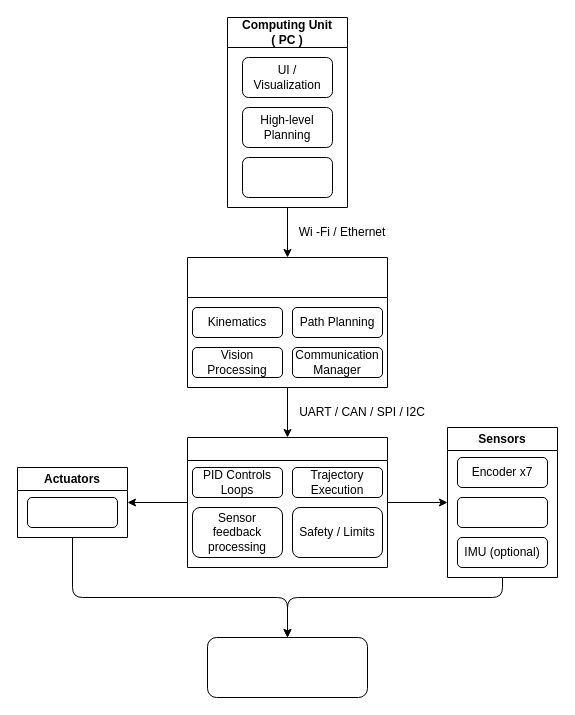
Image size: 575x715. Some labels were removed from this diagram. Each missing label, with the box of its shape:
7DOF Robotic Arm (Mechanical Structure): (206, 636, 368, 698)
DC Motors x7: (26, 496, 118, 528)
ESP32S3 (High-level Controller): (186, 256, 388, 388)
Limit Switches: (456, 496, 548, 528)
Monitoring / Logging: (242, 156, 332, 198)
STM32F411CEU6: (186, 436, 388, 568)
